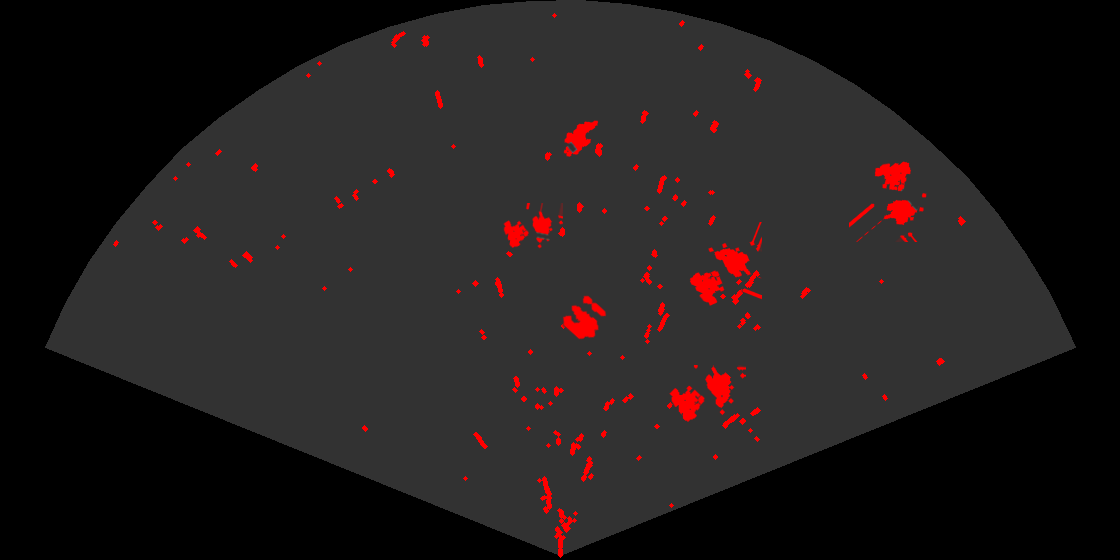AUV: (562, 119, 600, 158)
ball: (561, 294, 608, 341)
cage: (849, 160, 928, 242), (688, 222, 762, 307), (668, 365, 746, 423), (502, 203, 563, 250)
